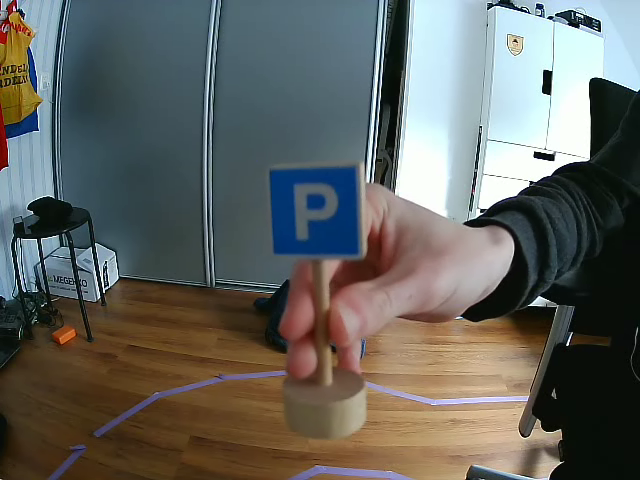parkeerbord: (270, 160, 366, 257)
